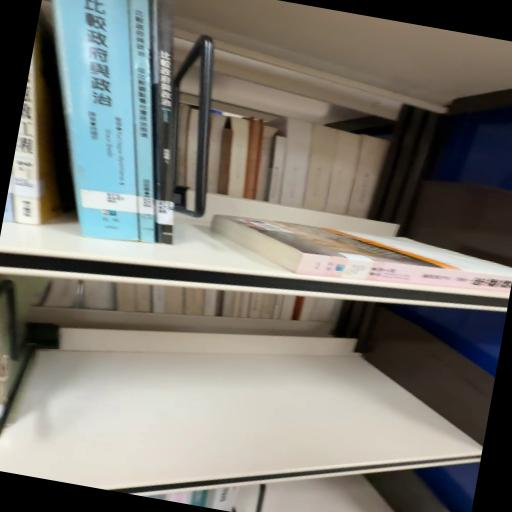flat: (211, 215, 512, 294)
